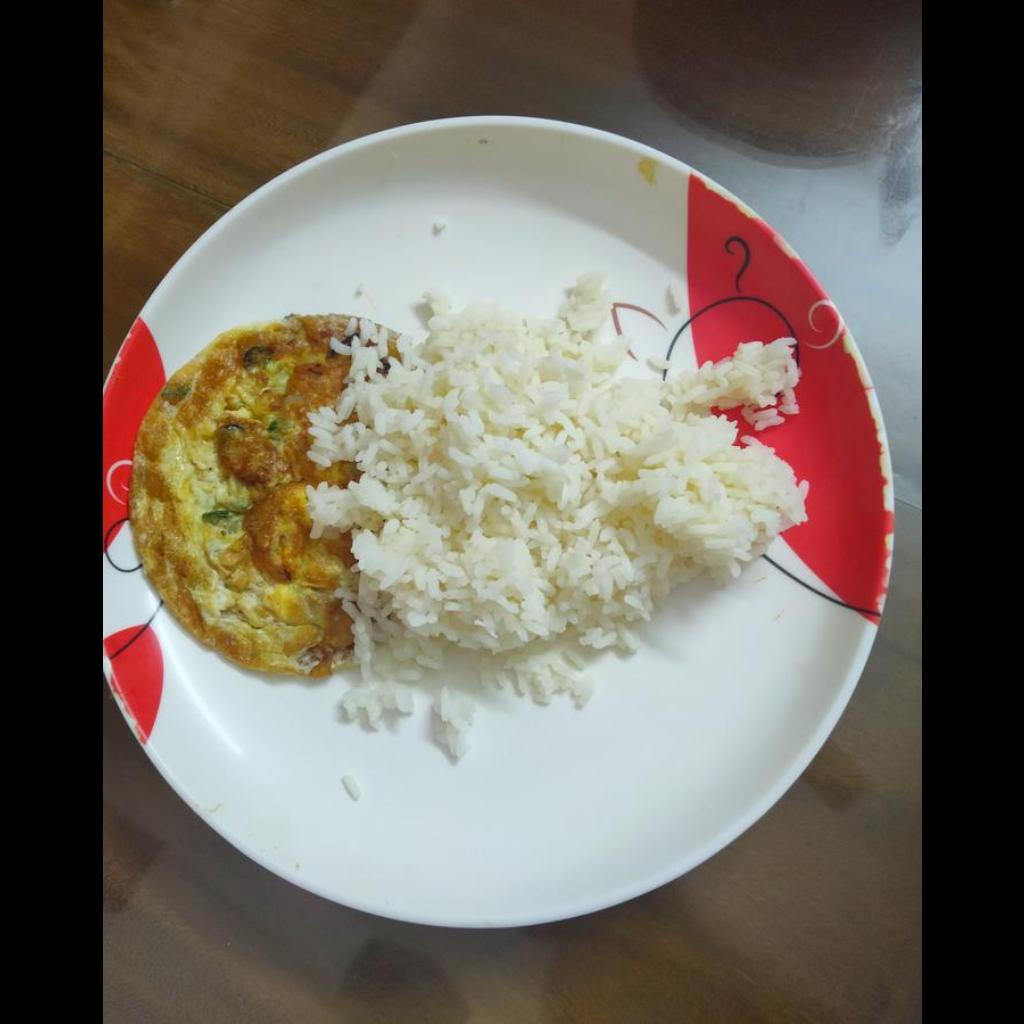egg-poached: (125, 316, 350, 670)
rice: (312, 277, 806, 763)
